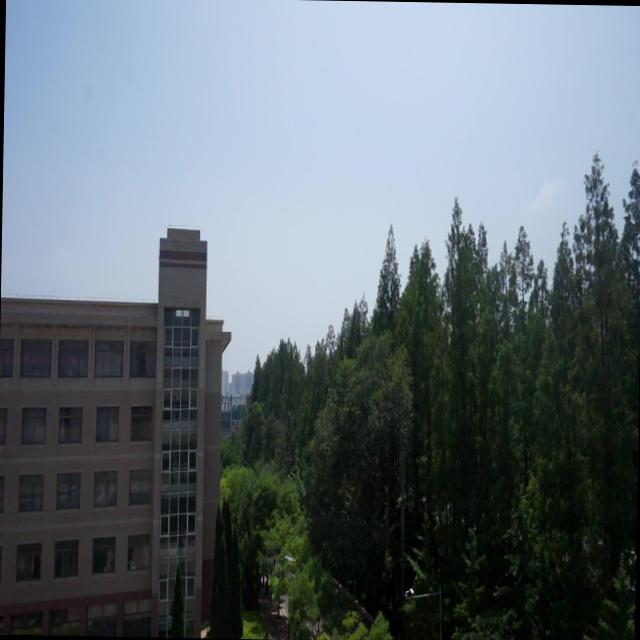drone: (282, 549, 296, 571)
